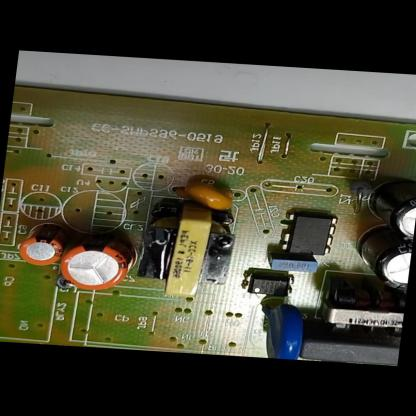Cap1: (61, 232, 135, 290)
Cap2: (20, 223, 67, 267)
Cap3: (356, 237, 412, 291)
Cap4: (366, 175, 416, 242)
MOSFET: (282, 212, 338, 256)
Mov: (257, 302, 307, 360)
Transformer: (139, 202, 238, 301), (315, 280, 407, 338)
